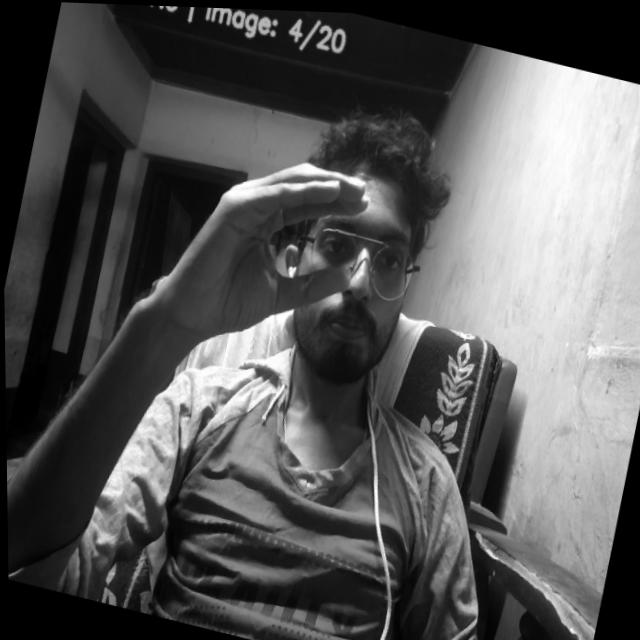No: (163, 141, 374, 381)
